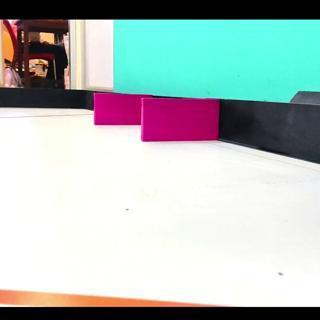xparking: (144, 100, 218, 142), (96, 95, 140, 125)
